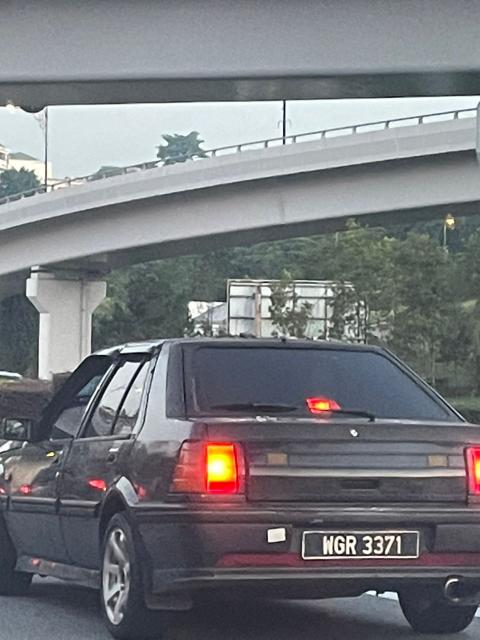License_Plate: (306, 533, 413, 559)
car: (10, 333, 480, 636)
